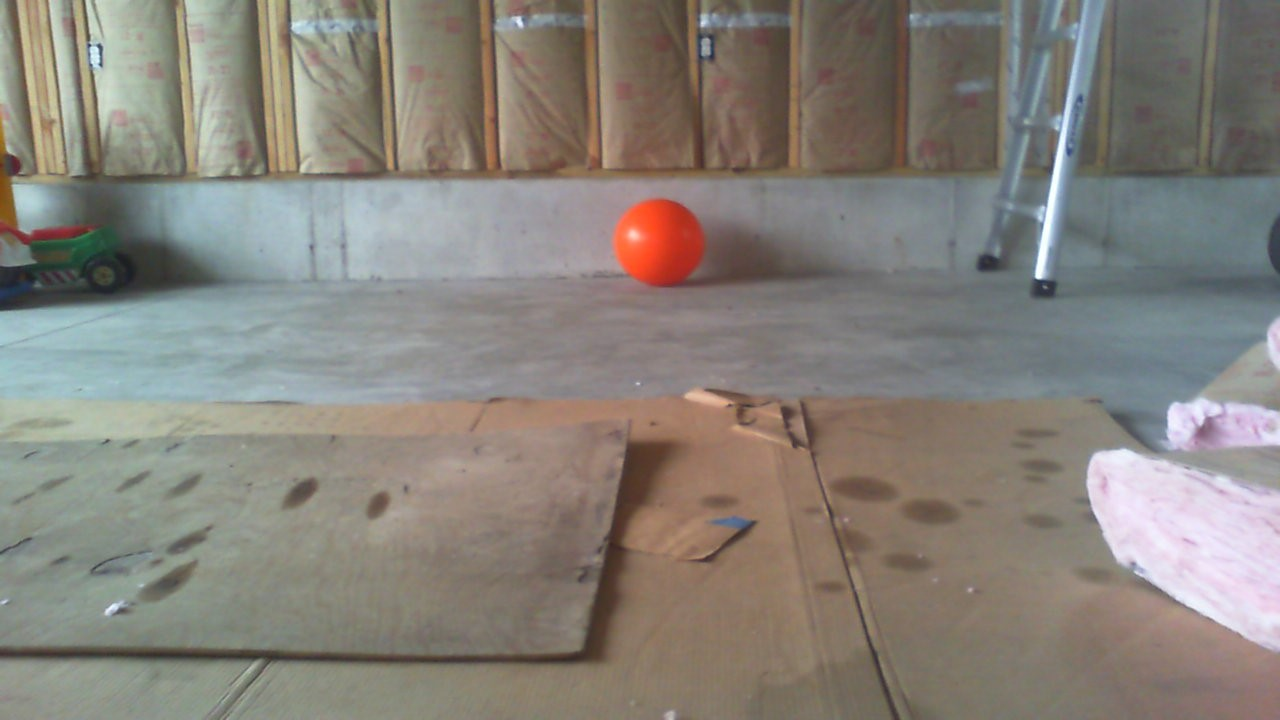Ball: (613, 198, 705, 285)
